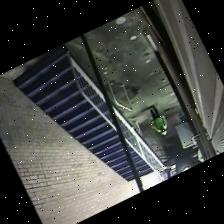person: (148, 105, 166, 134)
